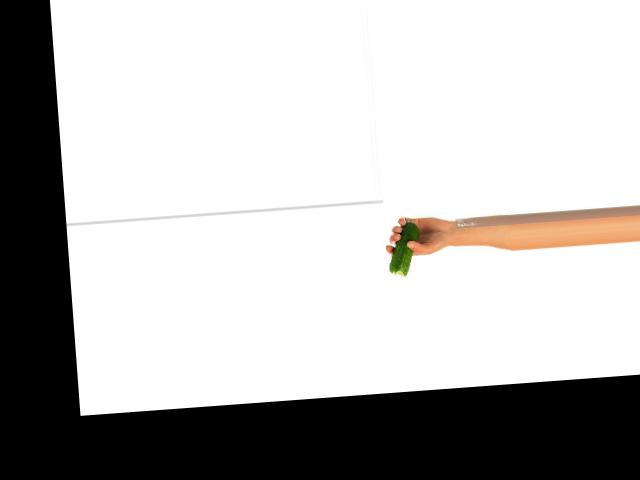cucumber: (386, 220, 422, 276)
